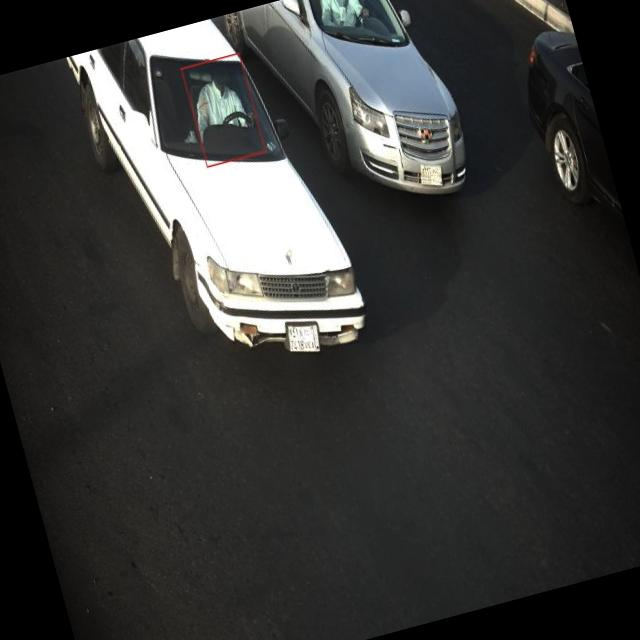person_without_seatbelt: (183, 51, 267, 166)
